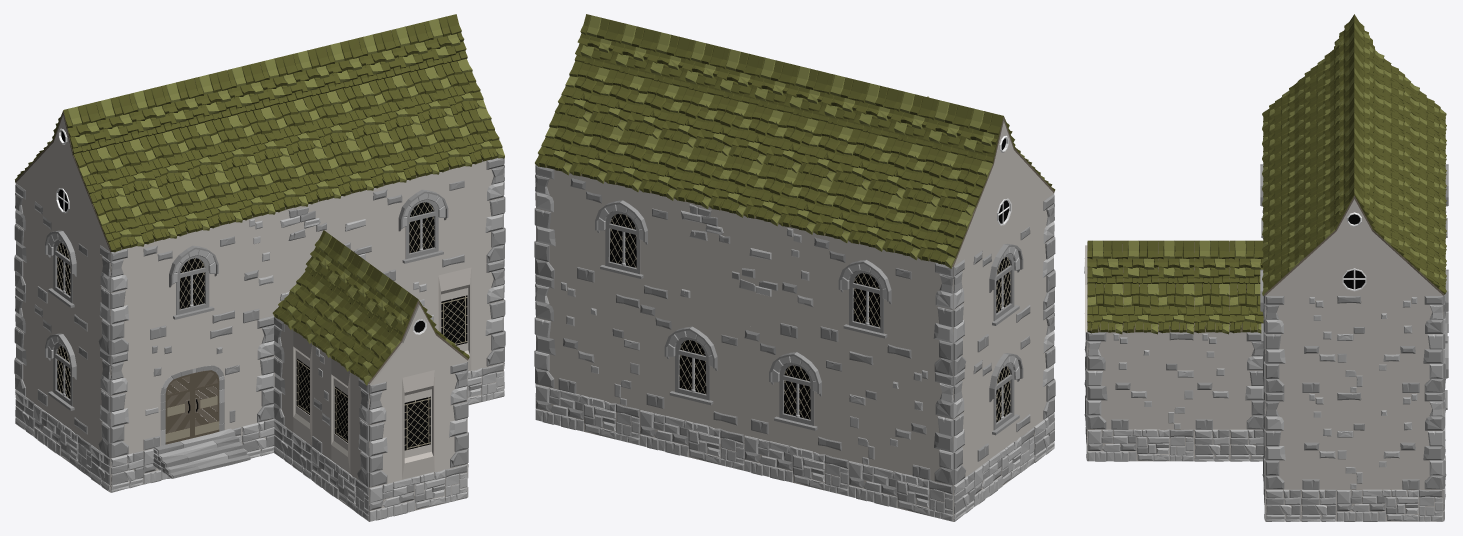
The model's file is House_20.glb.
The picture shows the model from 3 angles, left to right: view 1: azimuth 30°, elevation 25°; view 2: azimuth 150°, elevation 25°; view 3: azimuth 270°, elevation 25°; orthographic projection. The views are drawn at different scales.
Visible parts, largest first — view 1: DOOR_02_4, WINDOW_03_31, WINDOW_03_36, WALL_01_3, WINDOW_03_29, WINDOW_03_30, WALL_05_10, WALL_05_13, WALL_06_5, WALL_07_7, WALL_07_15, FOUNDATION_03_12 (+80 smaller); view 2: WINDOW_03_33, WALL_04_3, WINDOW_03_35, WALL_08_1, WINDOW_03_34, WALL_01_2, WINDOW_03_32, WINDOW_03_30, WINDOW_03_29, WALL_06_15, WALL_07_13, FOUNDATION_03_5 (+51 smaller); view 3: WALL_08_3, WALL_08_2, WALL_04_1, FOUNDATION_03_11, FOUNDATION_03_9, WALL_06_14, WALL_05_17, WALL_05_16, WALL_06_8, WALL_06_13, WALL_07_17, ROOF_BASE_12 (+72 smaller).
Boxes of the visible parts, x1,y1,x2,y2 form: DOOR_02_4: [143, 323, 241, 450]; WINDOW_03_31: [143, 222, 241, 347]; WINDOW_03_36: [373, 166, 471, 284]; WALL_01_3: [274, 190, 372, 310]; WINDOW_03_29: [34, 300, 91, 444]; WINDOW_03_30: [34, 197, 91, 341]; WALL_05_10: [110, 347, 143, 458]; WALL_05_13: [110, 246, 143, 355]; WALL_06_5: [241, 214, 274, 323]; WALL_07_7: [434, 362, 468, 471]; WALL_07_15: [471, 259, 504, 370]; FOUNDATION_03_12: [369, 464, 467, 521]; WINDOW_03_33: [744, 325, 849, 459]; WALL_04_3: [535, 274, 640, 408]; WINDOW_03_35: [570, 174, 675, 308]; WALL_08_1: [849, 351, 953, 485]; WINDOW_03_34: [640, 300, 744, 434]; WALL_01_2: [675, 199, 779, 333]; WINDOW_03_32: [814, 233, 918, 367]; WINDOW_03_30: [973, 208, 1033, 361]; WINDOW_03_29: [973, 318, 1033, 470]; WALL_06_15: [779, 225, 814, 341]; WALL_07_13: [918, 259, 953, 376]; FOUNDATION_03_5: [744, 434, 849, 496]; WALL_08_3: [1336, 295, 1443, 392]; WALL_08_2: [1336, 392, 1443, 489]; WALL_04_1: [1087, 332, 1194, 429]; FOUNDATION_03_11: [1087, 429, 1194, 461]; FOUNDATION_03_9: [1336, 489, 1443, 521]; WALL_06_14: [1301, 295, 1336, 392]; WALL_05_17: [1265, 295, 1300, 392]; WALL_05_16: [1265, 392, 1300, 489]; WALL_06_8: [1194, 332, 1229, 429]; WALL_06_13: [1301, 392, 1336, 489]; WALL_07_17: [1230, 332, 1263, 429]; ROOF_BASE_12: [1158, 283, 1194, 334].
Size of the model in its own units: 12.23 by 10.14 by 10.23.
1 material, 1 textured.
